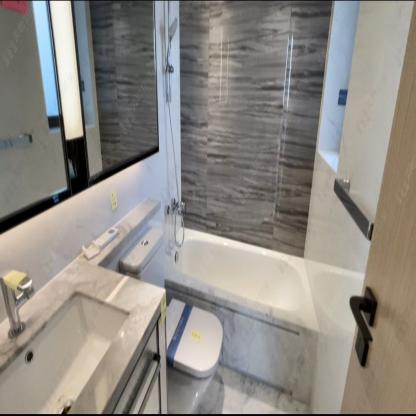Bathtub: (164, 226, 319, 409)
Toilet: (166, 298, 222, 415), (118, 224, 165, 286)
Toilet Sink: (0, 256, 166, 414)
